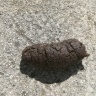Dog: (22, 39, 86, 66)
